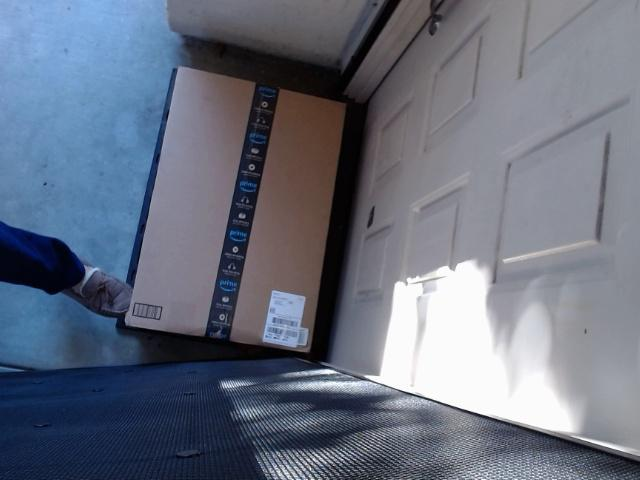box: (113, 70, 353, 353)
